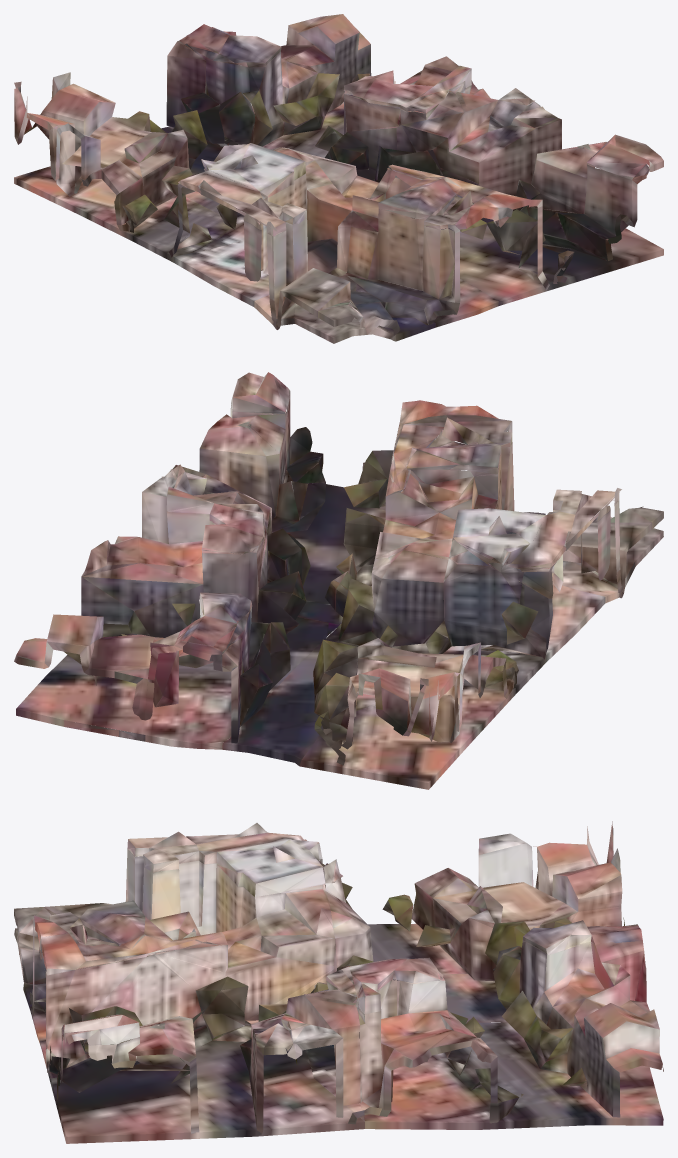
The picture shows the model from 3 angles, top to bottom: view 1: azimuth 30°, elevation 25°; view 2: azimuth 150°, elevation 25°; view 3: azimuth 270°, elevation 25°; orthographic projection. The views are drawn at different scales.
Visible parts, largest first — view 1: Mesh_0; view 2: Mesh_0; view 3: Mesh_0.
Part boxes in pixels (<box>): Mesh_0: <box>14,14,663,343</box>; Mesh_0: <box>14,372,663,789</box>; Mesh_0: <box>14,821,663,1143</box>.
Size of the model in its own units: 133 by 38.13 by 165.
Materials: 1 (1 with a texture image).
